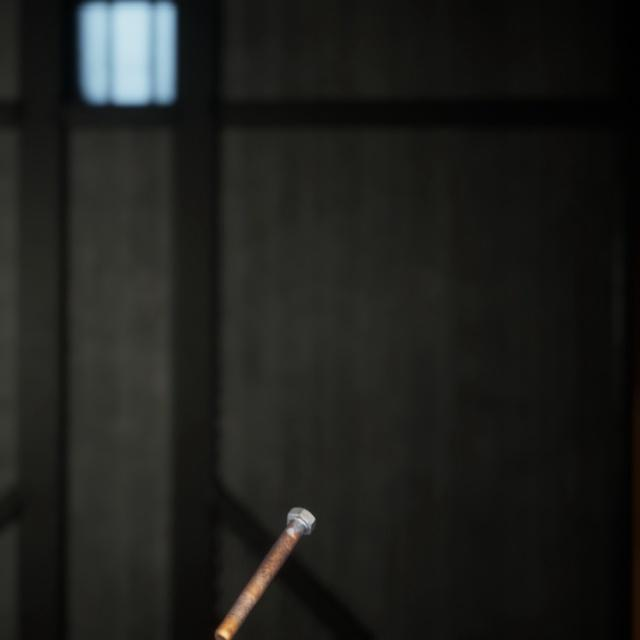bolt: (210, 480, 320, 624)
